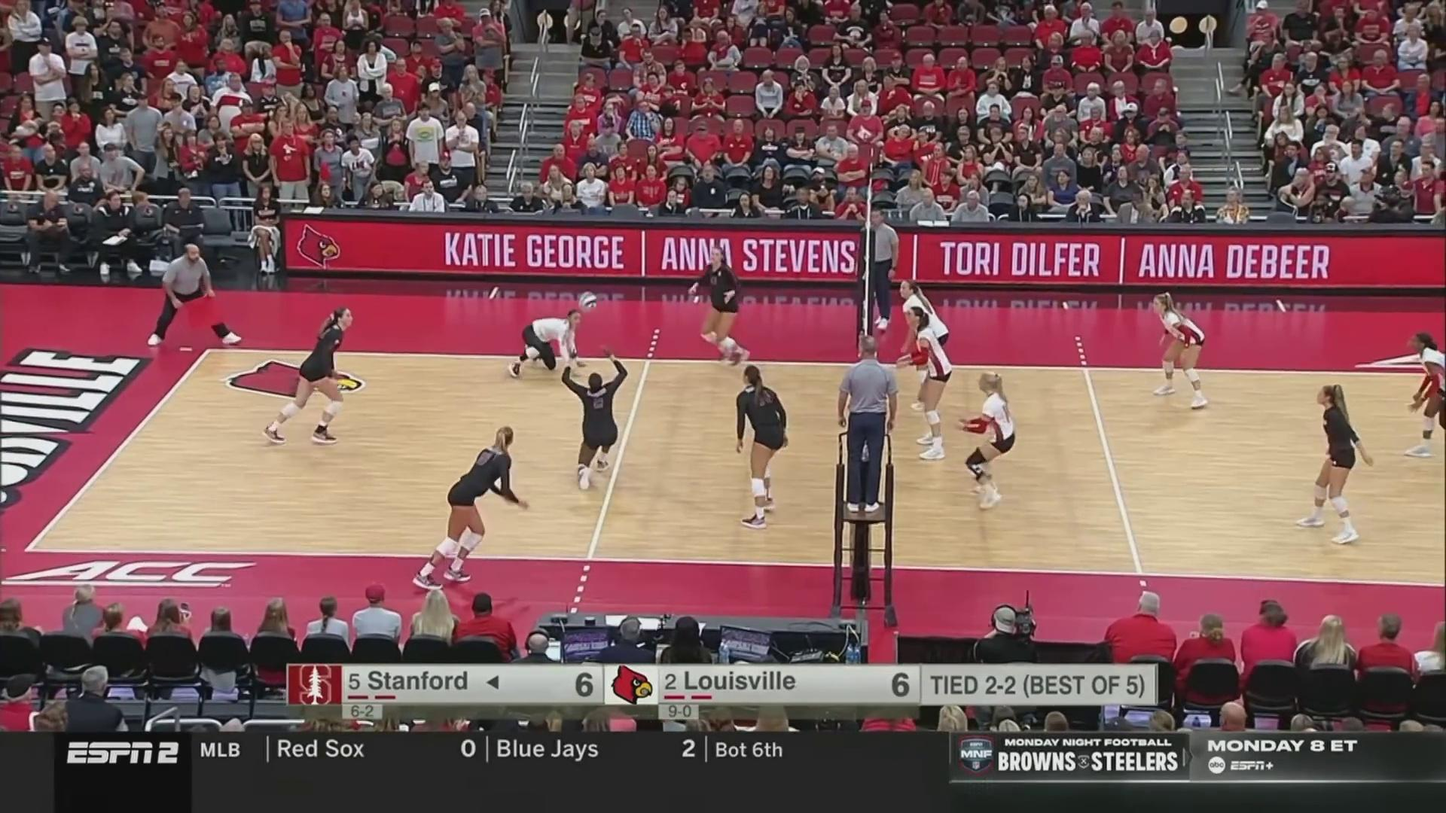player: (411, 425, 525, 589), (261, 309, 352, 444), (1296, 384, 1369, 542), (734, 369, 796, 531), (563, 349, 629, 488), (899, 309, 951, 462), (958, 373, 1017, 506), (896, 279, 950, 414), (1148, 294, 1208, 409), (690, 248, 750, 363), (1402, 334, 1446, 460), (508, 313, 587, 376)
refree: (838, 337, 897, 513), (148, 244, 241, 345), (862, 210, 900, 329)
